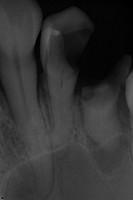Furcation Involvement: (86, 133, 129, 176)
